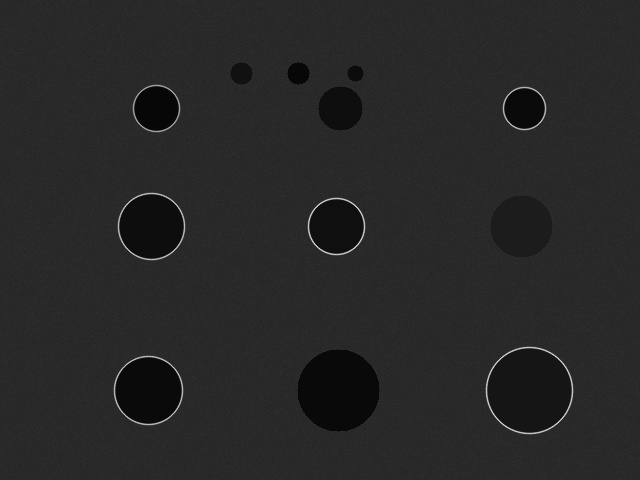hole: (486, 347, 572, 433), (297, 349, 379, 431), (114, 356, 182, 424), (118, 193, 184, 259), (490, 195, 552, 257), (308, 198, 364, 254), (133, 85, 179, 131), (318, 86, 362, 130), (503, 87, 545, 129), (230, 62, 252, 84), (287, 62, 309, 84), (347, 65, 363, 81)
